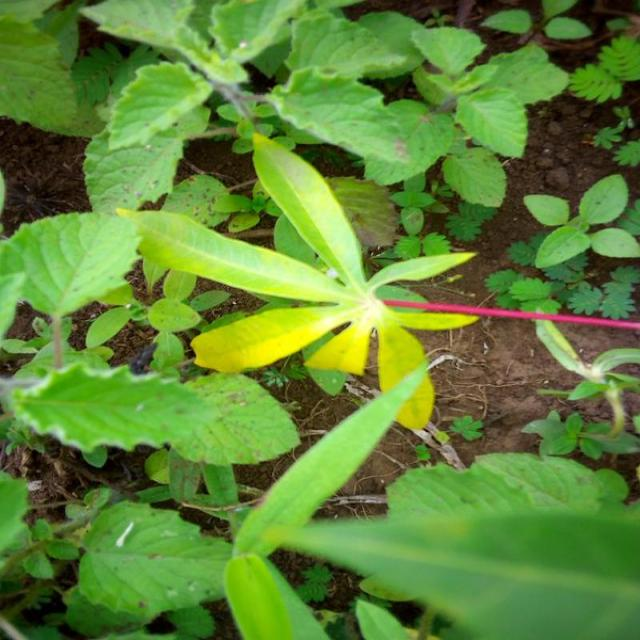cassava leaf: (117, 130, 483, 433), (7, 358, 301, 468)
